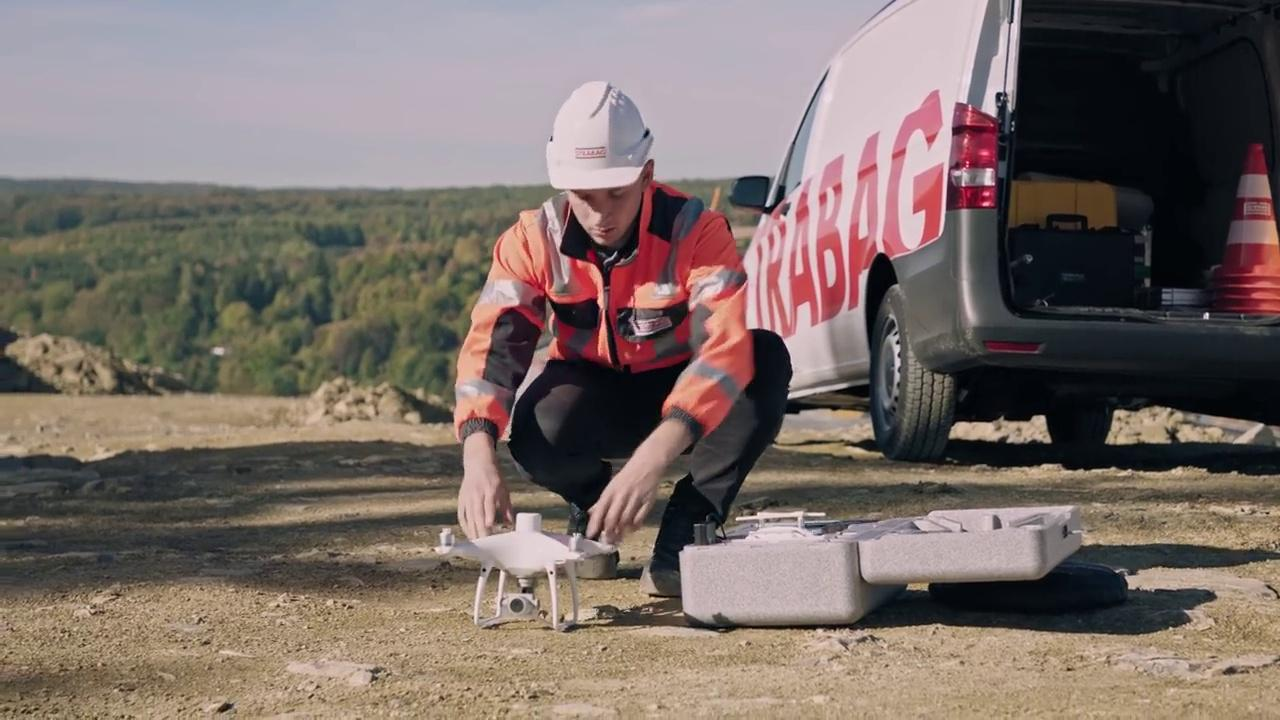drone: (440, 514, 584, 629)
